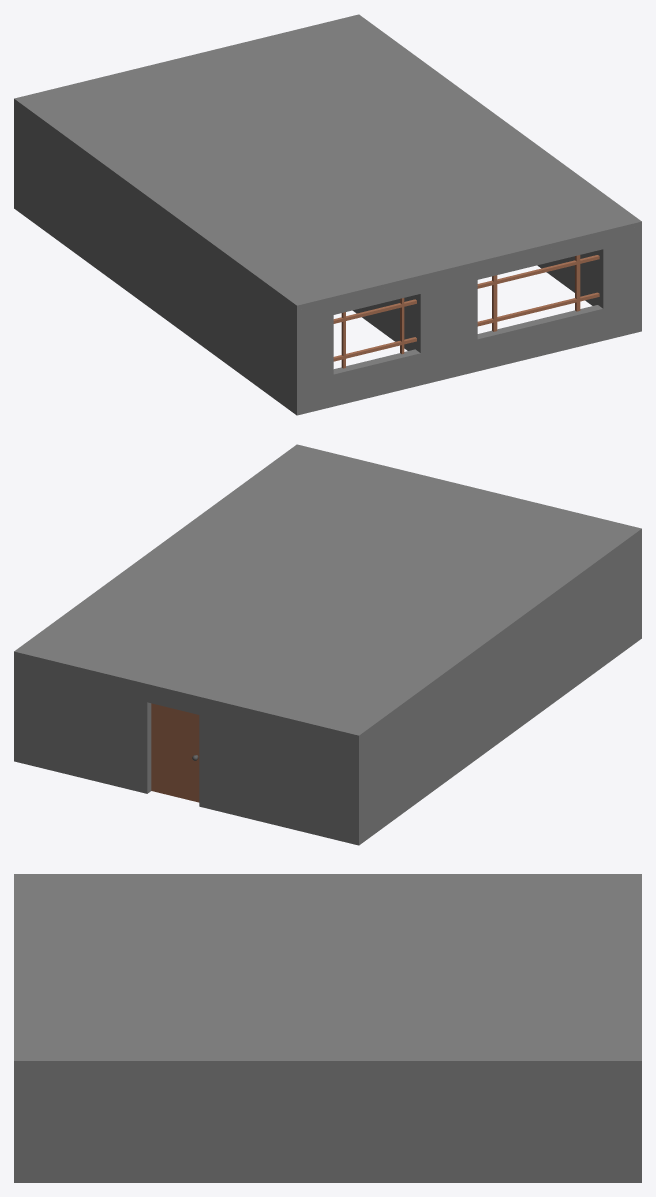
File: 1 bed 1 bath apartment.fbx
The picture shows the model from 3 angles, top to bottom: view 1: azimuth 30°, elevation 25°; view 2: azimuth 150°, elevation 25°; view 3: azimuth 270°, elevation 25°; orthographic projection. The views are drawn at different scales.
Parts seen in each view (by area): view 1: Ceiling, 1 bed apartment, Living Window, Bed Window; view 2: Ceiling, 1 bed apartment, Apartment Door; view 3: Ceiling, 1 bed apartment.
Boxes of the visible parts, <box> form: Ceiling: <box>14,14,641,309</box>; 1 bed apartment: <box>14,103,641,415</box>; Living Window: <box>477,255,599,331</box>; Bed Window: <box>333,298,416,368</box>; Ceiling: <box>14,444,641,739</box>; 1 bed apartment: <box>14,533,641,845</box>; Apartment Door: <box>151,703,199,802</box>; Ceiling: <box>14,874,641,1065</box>; 1 bed apartment: <box>14,1066,641,1182</box>.
Size of the model in its own units: 789 by 240 by 1121.
